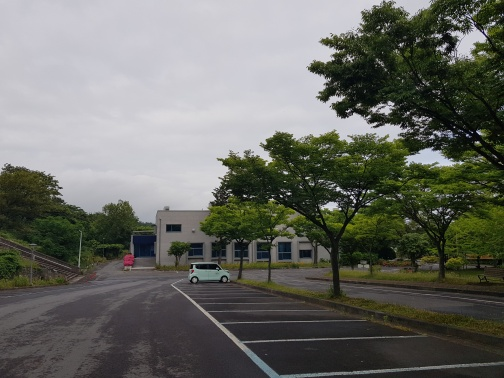College of Social Sciences: (121, 199, 339, 281)
